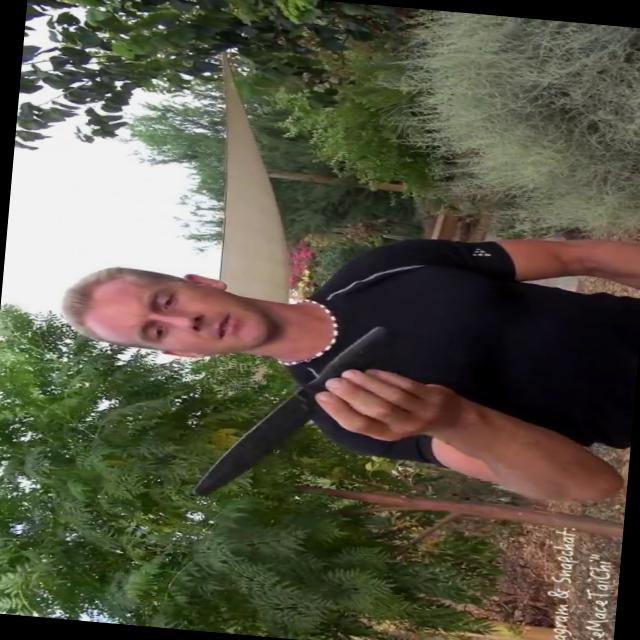knife: (178, 304, 418, 518)
